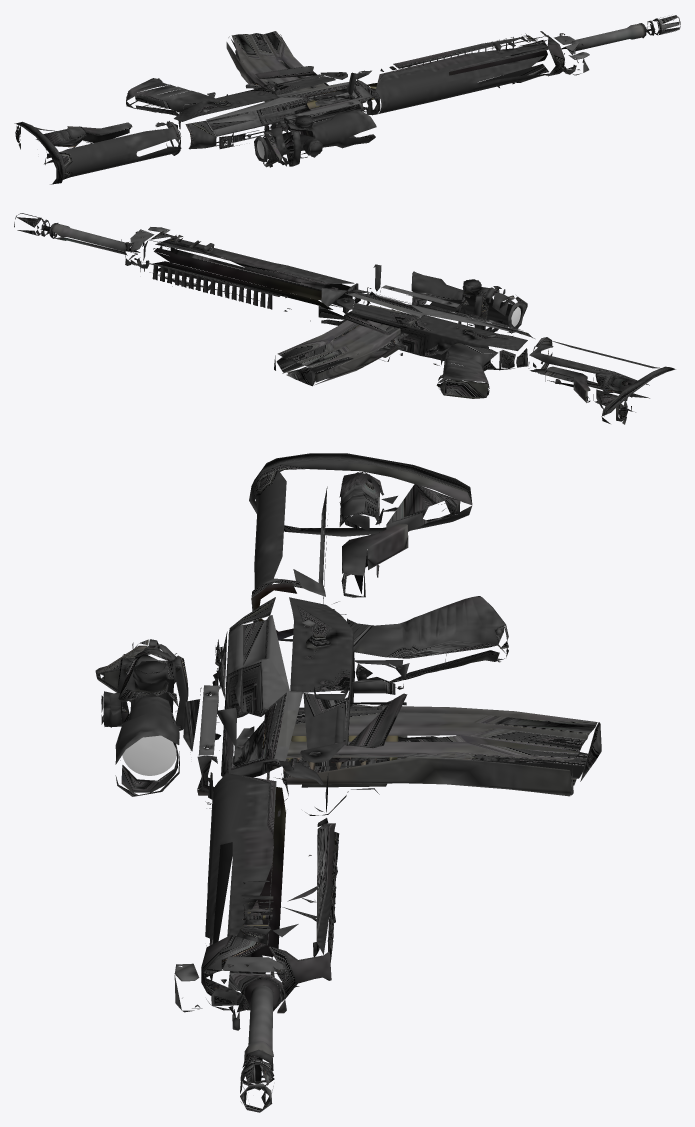
3 views of the same model, one above another, from view 1: azimuth 30°, elevation 25°; view 2: azimuth 150°, elevation 25°; view 3: azimuth 270°, elevation 25° (orthographic). The views are drawn at different scales.
Parts seen in each view (by area): view 1: p_sg552; view 2: p_sg552; view 3: p_sg552.
Part boxes in pixels (left/top/right/bottom): p_sg552: left=14, top=15, right=680, bottom=184; p_sg552: left=14, top=213, right=675, bottom=424; p_sg552: left=95, top=453, right=601, bottom=1112.
Bounding box in the file's own units: 1.2 × 0.1026 × 0.4241.
2 materials, 2 textured.
